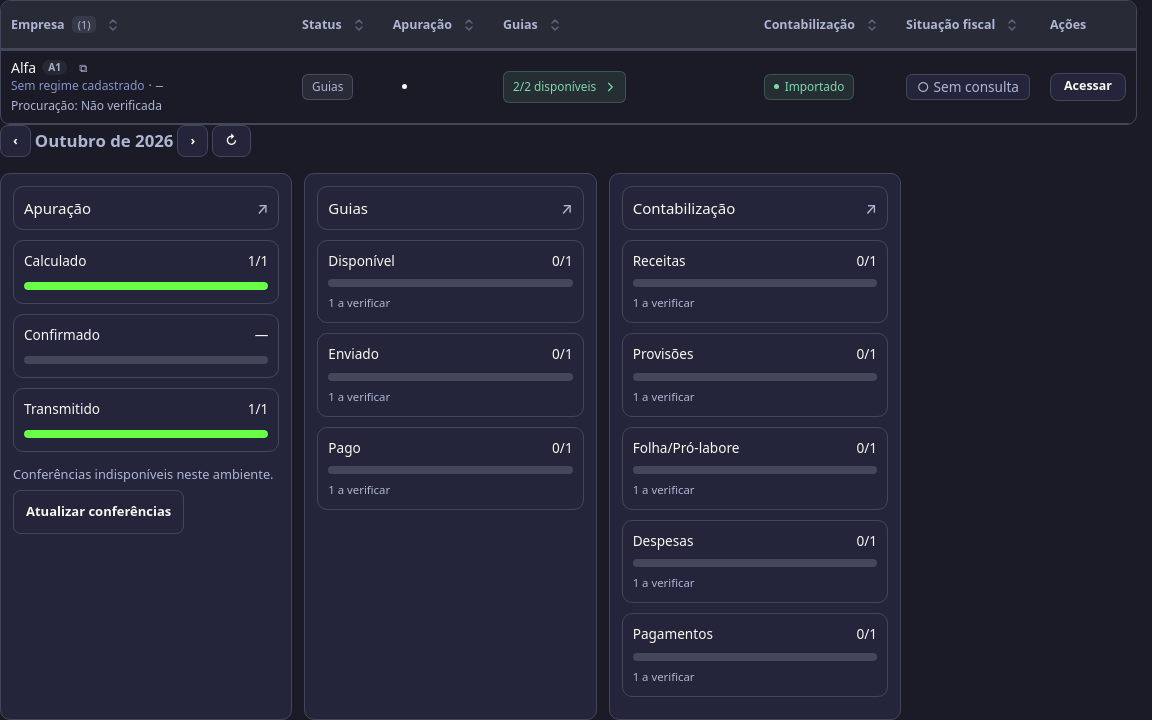
Test: INSS em revisão concorda entre Empresas, progresso e filtros sem apagar fechamento ou envio
The width and height of the screenshot is (1152, 720).
Expected: the button with aria-label "Ver tarefas de Alfa: Guias" is shown, [302, 74, 353, 100]
Expected: the 2nd button "Contabilização" is shown, [622, 186, 888, 230]
Click the button with aria-label "Disponível 0/1 empresas": (450, 282) [317, 240, 584, 323]
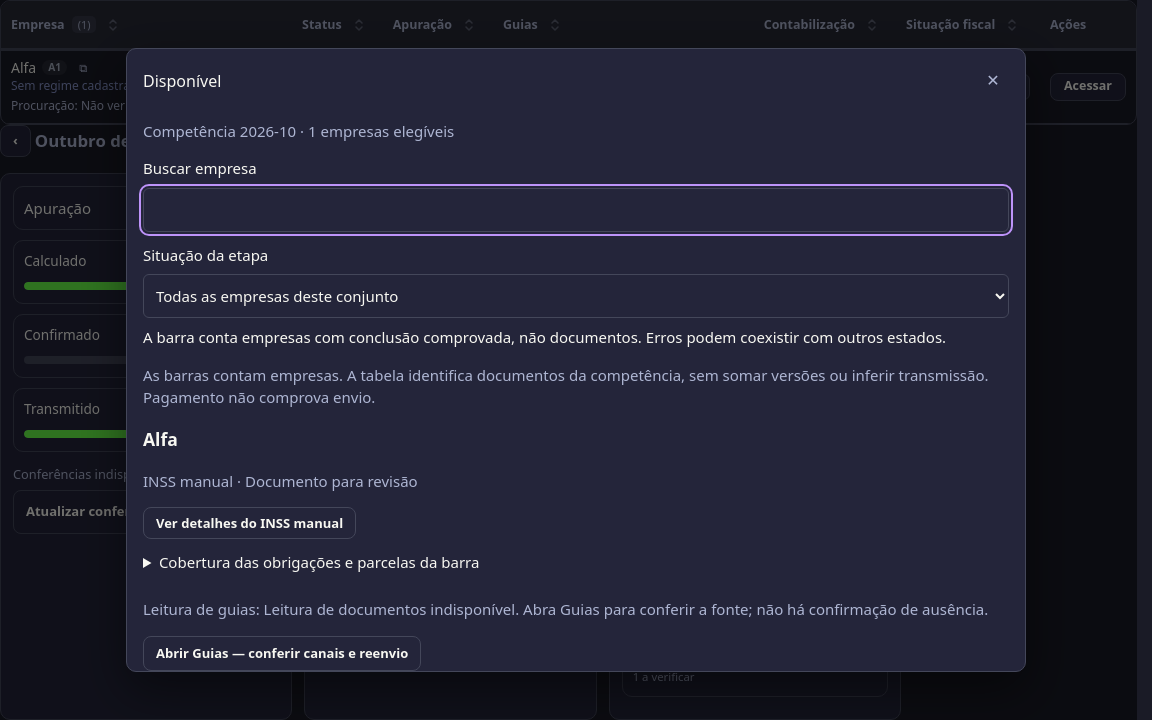
Result: the heading "Alfa" is shown at [143, 427, 178, 451]
Result: the text "INSS manual · Documento para revisão" is shown at [143, 471, 418, 491]
